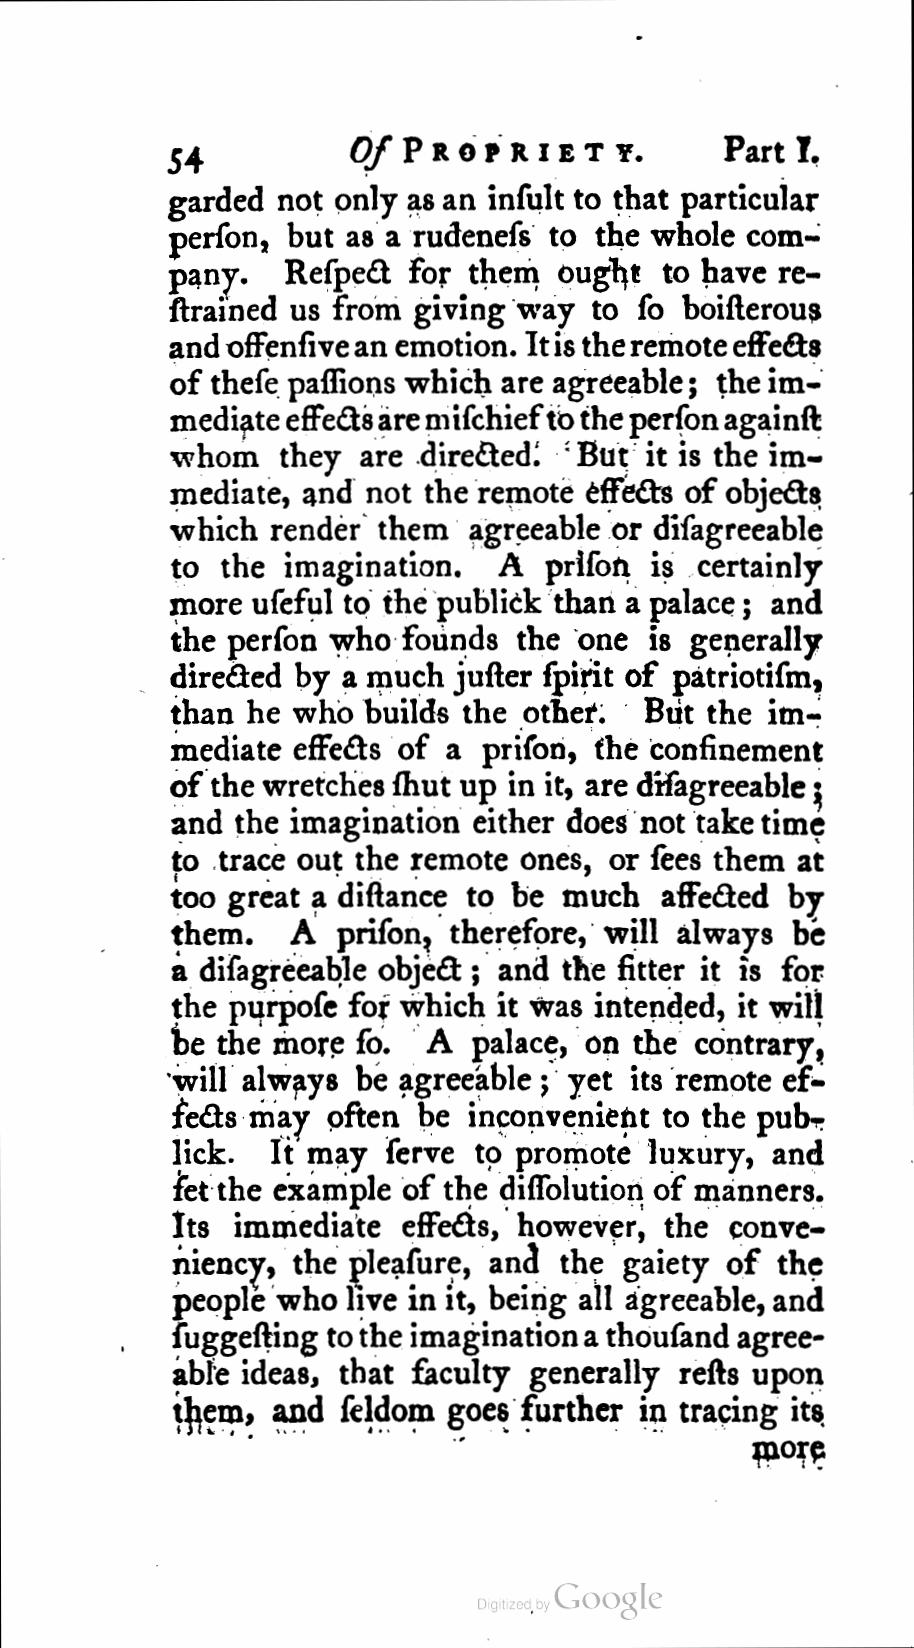catchword: (750, 1437, 828, 1462)
header: (340, 129, 826, 170)
page_num: (165, 142, 206, 176)
top_p: (162, 188, 830, 1432)
